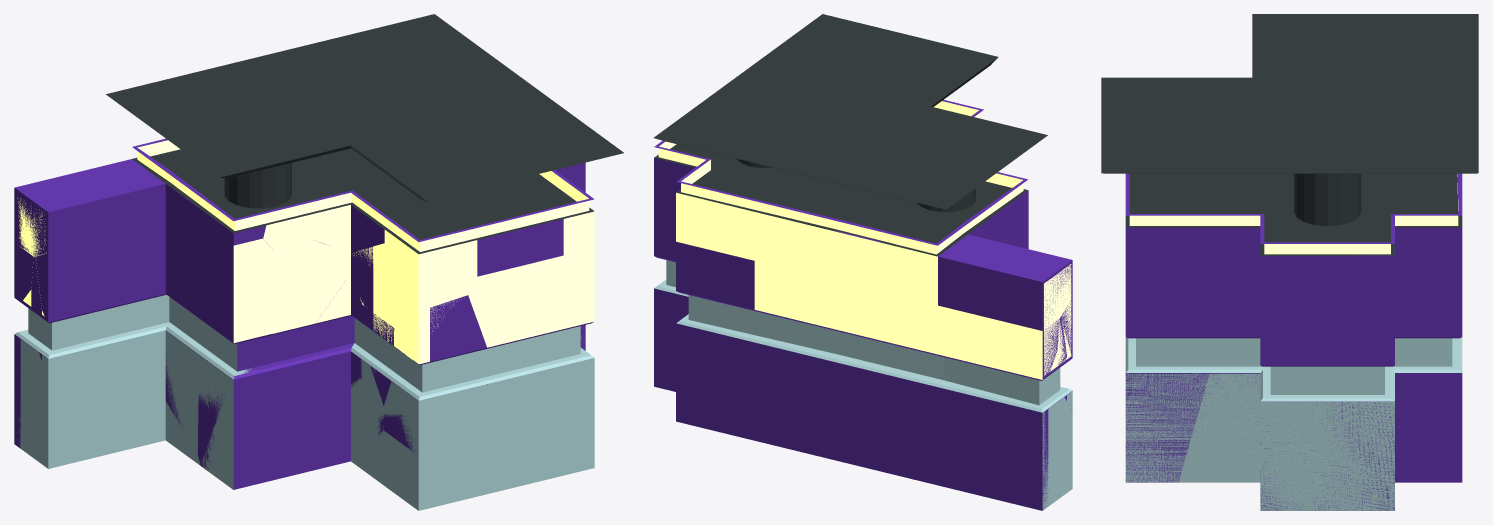
The model's file is OfficeVariant3.fbx.
3 renders of one model, left to right at view 1: azimuth 30°, elevation 25°; view 2: azimuth 150°, elevation 25°; view 3: azimuth 270°, elevation 25°, orthographic. The views are drawn at different scales.
Visible parts, largest first — view 1: Office, Office_cell.018, Office_cell.038, Office_cell.052, Office_cell.012, Office_cell.054, Office_cell.080, Office_cell.093, Office_cell.023, Office_cell.067, Office_cell.074, Office_cell.027 (+38 smaller); view 2: Office, Office_cell.018, Office_cell.065, Office_cell.040, Office_cell.015, Office_cell.104, Office_cell.073, Office_cell.107, Office_cell.082, Office_cell.025, Office_cell.027, Office_cell.086 (+16 smaller); view 3: Office, Office_cell.018, Office_cell.052, Office_cell.069, Office_cell.055, Office_cell.009, Office_cell.020, Office_cell.065, Office_cell.015, Office_cell.030, Office_cell.104, Office_cell.014 (+20 smaller).
Part boxes in pixels (left/top/right/bottom): Office: left=14, top=31, right=623, bottom=508; Office_cell.018: left=132, top=148, right=594, bottom=254; Office_cell.038: left=197, top=326, right=295, bottom=489; Office_cell.052: left=509, top=290, right=594, bottom=476; Office_cell.012: left=468, top=255, right=585, bottom=397; Office_cell.054: left=356, top=432, right=558, bottom=510; Office_cell.080: left=288, top=325, right=383, bottom=474; Office_cell.093: left=31, top=244, right=112, bottom=379; Office_cell.023: left=101, top=307, right=207, bottom=429; Office_cell.067: left=383, top=376, right=515, bottom=455; Office_cell.074: left=272, top=238, right=350, bottom=348; Office_cell.027: left=111, top=140, right=593, bottom=251; Office: left=654, top=14, right=1072, bottom=510; Office_cell.018: left=654, top=144, right=1027, bottom=255; Office_cell.065: left=741, top=147, right=903, bottom=194; Office_cell.040: left=887, top=414, right=1032, bottom=508; Office_cell.015: left=838, top=26, right=942, bottom=71; Office_cell.104: left=743, top=99, right=835, bottom=150; Office_cell.073: left=766, top=77, right=868, bottom=125; Office_cell.107: left=780, top=120, right=890, bottom=152; Office_cell.082: left=766, top=67, right=872, bottom=98; Office_cell.025: left=977, top=379, right=1062, bottom=504; Office_cell.027: left=672, top=100, right=1027, bottom=259; Office_cell.086: left=887, top=182, right=968, bottom=209; Office: left=1101, top=14, right=1477, bottom=510; Office_cell.018: left=1125, top=173, right=1462, bottom=255; Office_cell.052: left=1125, top=281, right=1219, bottom=482; Office_cell.069: left=1197, top=215, right=1260, bottom=297; Office_cell.055: left=1125, top=215, right=1196, bottom=282; Office_cell.009: left=1385, top=351, right=1428, bottom=482; Office_cell.020: left=1215, top=296, right=1327, bottom=379; Office_cell.065: left=1429, top=46, right=1478, bottom=126; Office_cell.015: left=1101, top=108, right=1204, bottom=145; Office_cell.030: left=1395, top=280, right=1462, bottom=350; Office_cell.104: left=1328, top=106, right=1448, bottom=149; Office_cell.014: left=1327, top=292, right=1384, bottom=394.
Bounding box in the file's own units: 800 × 521 × 561.
